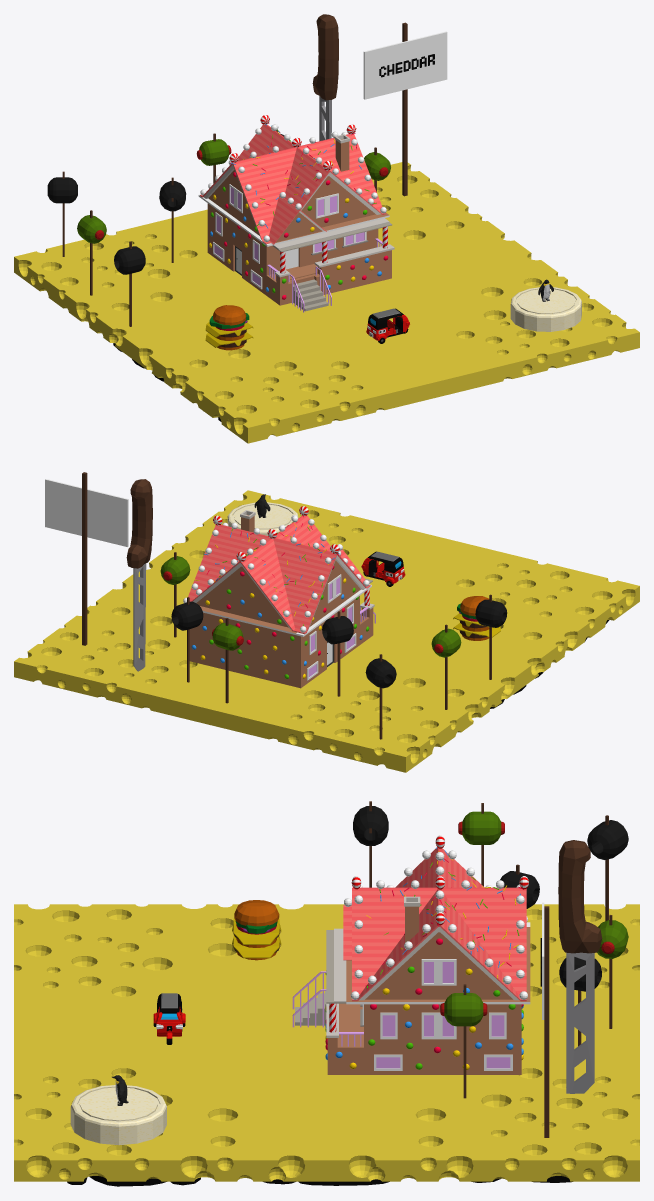
3 renders of one model, top to bottom at view 1: azimuth 30°, elevation 25°; view 2: azimuth 150°, elevation 25°; view 3: azimuth 270°, elevation 25°, orthographic. The views are drawn at different scales.
Visible parts, largest first — view 1: Cube.022, Cube.1203, Cube.023, Cylinder.016, Cube.024, OBJRANDOM_HAMBURGER, VEHICLES_TUC_TUC, Sphere.017, Sphere.016, Sphere.020, Sphere.018, Sphere.022 (+1 smaller); view 2: Cube.022, Cube.1203, Cube.023, Cube.024, Cylinder.016, OBJRANDOM_HAMBURGER, VEHICLES_TUC_TUC, Sphere.020, Sphere.016, Sphere.022, Sphere.017, Sphere.021 (+2 smaller); view 3: Cube.022, Cube.1203, Cube.024, Cylinder.016, OBJRANDOM_HAMBURGER, Cube.023, Sphere.019, Sphere.016, Sphere.018, Curve.014, Sphere.017, Sphere.022 (+3 smaller).
Boxes of the visible parts, x1,y1,x2,y2 form: Cube.022: (14,162,639,443); Cube.1203: (198,115,394,312); Cube.023: (363,22,447,196); Cylinder.016: (510,287,581,331); Cube.024: (312,14,338,141); OBJRANDOM_HAMBURGER: (205,305,253,350); VEHICLES_TUC_TUC: (366,308,409,343); Sphere.017: (114,241,145,326); Sphere.016: (47,171,77,256); Sphere.020: (159,177,186,262); Sphere.018: (77,210,106,295); Sphere.022: (196,133,231,183); Cube.022: (14,490,639,772); Cube.1203: (183,506,375,688); Cube.023: (45,472,128,645); Cube.024: (126,479,152,671); Cylinder.016: (227,502,298,535); OBJRANDOM_HAMBURGER: (453,596,500,640); VEHICLES_TUC_TUC: (361,551,405,586); Sphere.020: (322,611,353,696); Sphere.016: (365,654,396,739); Sphere.022: (212,618,243,703); Sphere.017: (475,594,507,679); Sphere.021: (171,597,203,682); Cube.022: (14,904,639,1181); Cube.1203: (292,835,530,1074); Cube.024: (558,840,602,1093); Cylinder.016: (70,1085,166,1145); OBJRANDOM_HAMBURGER: (232,900,281,960); Cube.023: (540,902,549,1137); Sphere.019: (440,984,487,1098); Sphere.016: (587,815,628,920); Sphere.018: (458,803,504,886); Curve.014: (67,1176,572,1186); Sphere.017: (353,801,388,887); Sphere.022: (597,915,628,1028).
Size of the model in its own units: 3917 by 1980 by 4000.
46 materials, 4 textured.
